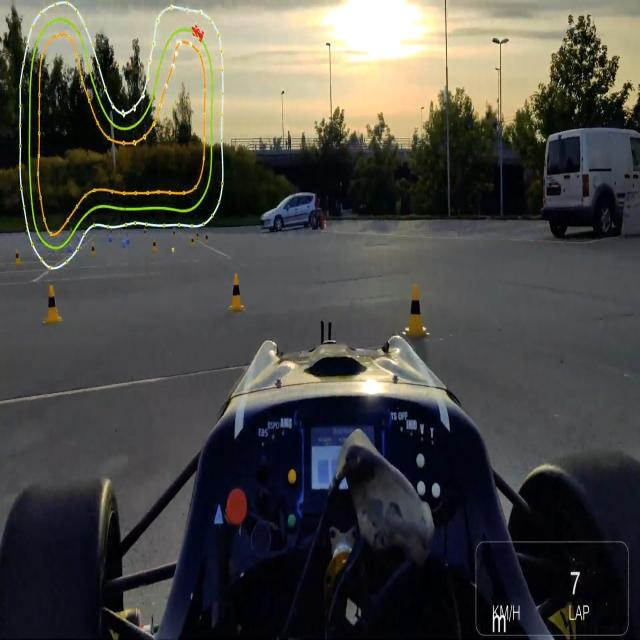yellow_cone: (38, 268, 68, 331), (400, 280, 430, 334), (224, 261, 251, 316)
